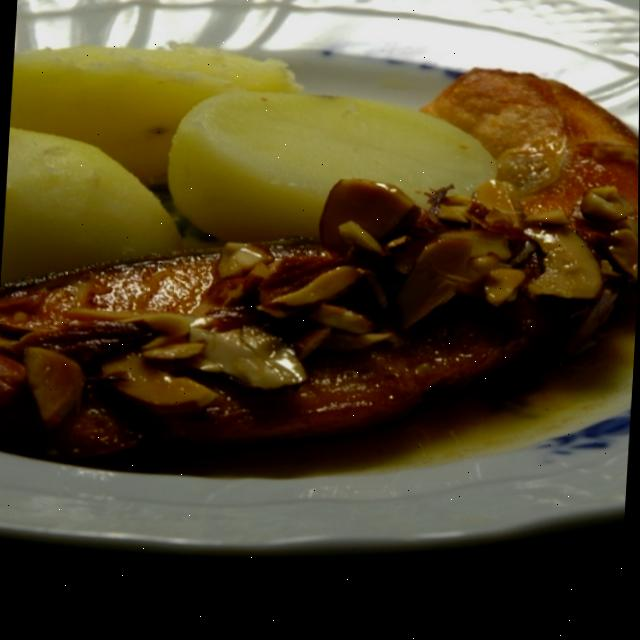熟制海鲜: (0, 0, 550, 433)
